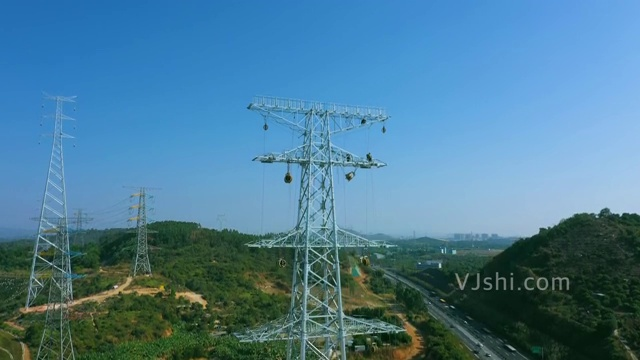tower_body: (230, 88, 409, 360)
tower_foot: (283, 337, 351, 360)
tower_head: (241, 93, 402, 171)
